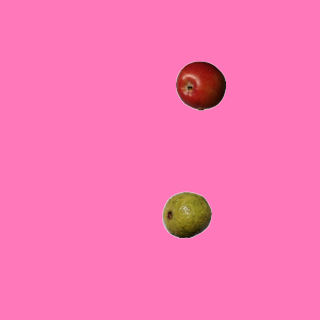Apple Braeburn: (175, 60, 225, 110)
Guava: (161, 189, 211, 239)
